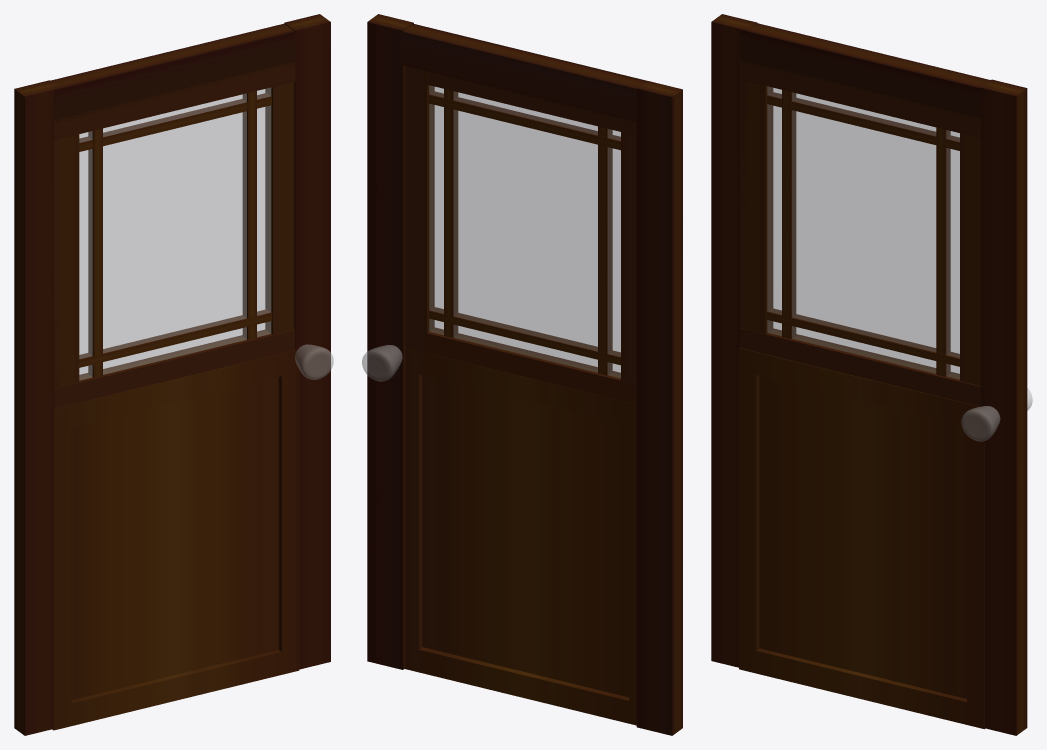
Rendered from fancyFrontDoor.glb.
3 views of the same model, side by side, from view 1: azimuth 30°, elevation 25°; view 2: azimuth 150°, elevation 25°; view 3: azimuth 330°, elevation 25° (orthographic).
Size of the model in its own units: 4.07 by 8.16 by 0.9819.
Materials: 2 (1 with a texture image).
